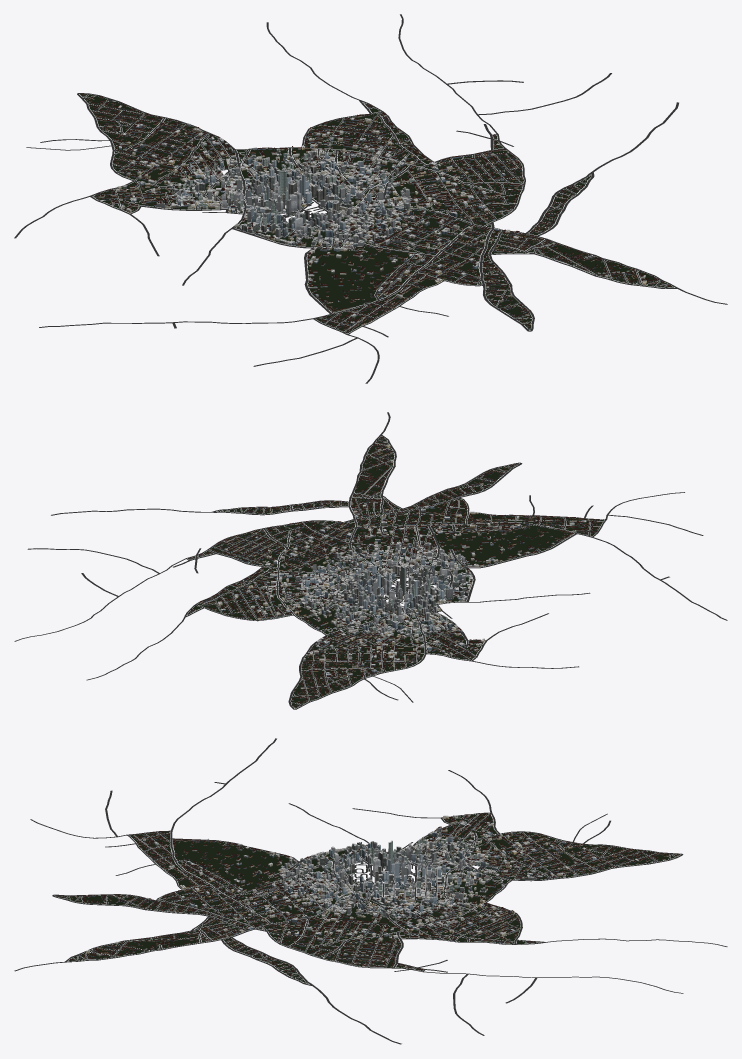
The model's file is casa_city_2k_comp.140481a1.glb.
3 views of the same model, one above another, from view 1: azimuth 30°, elevation 25°; view 2: azimuth 150°, elevation 25°; view 3: azimuth 270°, elevation 25° (orthographic). The views are drawn at different scales.
Visible parts, largest first — view 1: floor, Street, roof, FlatRoofTexture, FacadeTexture.007, FacadeTexture.002, FacadeTexture.027, FacadeTexture.006, FacadeTexture.018, FacadeTexture.019, FacadeTexture.013, FacadeTexture.008 (+9 smaller); view 2: floor, Street, roof, FlatRoofTexture, FacadeTexture.007, FacadeTexture.002, FacadeTexture.006, FacadeTexture.027, FacadeTexture.019, FacadeTexture.013, FacadeTexture.001, FacadeTexture.018 (+8 smaller); view 3: floor, Street, roof, FlatRoofTexture, FacadeTexture.007, FacadeTexture.002, FacadeTexture.027, FacadeTexture.019, FacadeTexture.006, FacadeTexture.013, FacadeTexture.008, FacadeTexture.018 (+8 smaller).
Boxes of the visible parts, <box> form: floor: <box>80,94,673,333</box>; Street: <box>14,14,727,383</box>; roof: <box>81,93,670,332</box>; FlatRoofTexture: <box>89,101,652,329</box>; FacadeTexture.007: <box>100,104,665,326</box>; FacadeTexture.002: <box>90,102,655,328</box>; FacadeTexture.027: <box>104,114,586,327</box>; FacadeTexture.006: <box>88,99,629,322</box>; FacadeTexture.018: <box>102,100,559,324</box>; FacadeTexture.019: <box>82,96,555,333</box>; FacadeTexture.013: <box>99,97,614,325</box>; FacadeTexture.008: <box>91,102,657,329</box>; floor: <box>187,436,604,708</box>; Street: <box>14,412,727,709</box>; roof: <box>189,437,603,706</box>; FlatRoofTexture: <box>195,444,598,707</box>; FacadeTexture.007: <box>190,439,593,693</box>; FacadeTexture.002: <box>203,446,592,699</box>; FacadeTexture.006: <box>225,459,584,702</box>; FacadeTexture.027: <box>219,477,599,692</box>; FacadeTexture.019: <box>209,474,603,706</box>; FacadeTexture.013: <box>219,459,597,700</box>; FacadeTexture.001: <box>213,482,536,704</box>; FacadeTexture.018: <box>189,473,593,698</box>; floor: <box>55,813,680,983</box>; Street: <box>14,738,727,1044</box>; roof: <box>58,813,678,978</box>; FlatRoofTexture: <box>64,815,664,972</box>; FacadeTexture.007: <box>63,817,646,978</box>; FacadeTexture.002: <box>58,815,657,971</box>; FacadeTexture.027: <box>123,818,633,961</box>; FacadeTexture.019: <box>88,819,675,965</box>; FacadeTexture.006: <box>121,820,664,954</box>; FacadeTexture.013: <box>113,825,665,968</box>; FacadeTexture.008: <box>64,815,658,968</box>; FacadeTexture.018: <box>85,817,658,954</box>.
Bounding box in the file's own units: 54.51 × 2.5 × 53.71.
33 materials, 30 textured.
